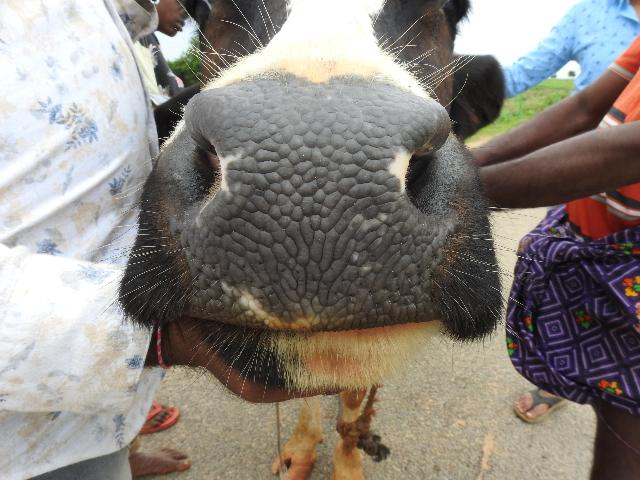Muzzle: (195, 91, 425, 326)
